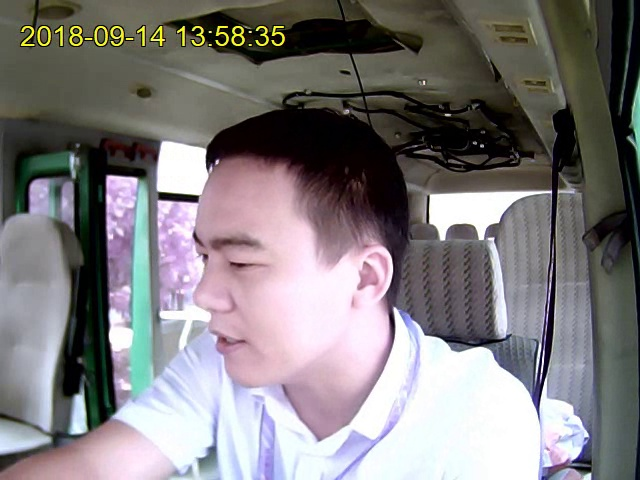closed_mouth: (209, 325, 248, 354)
